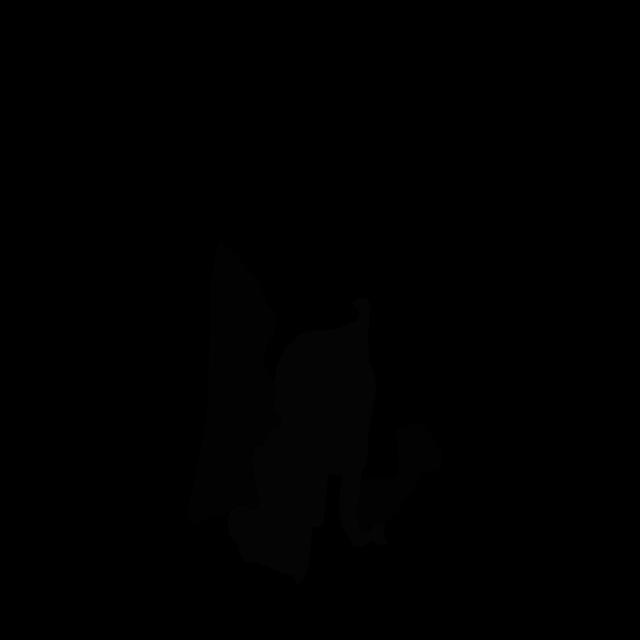cardboard: (187, 241, 282, 525), (355, 421, 443, 532)
soft_plastic: (228, 298, 387, 585)
